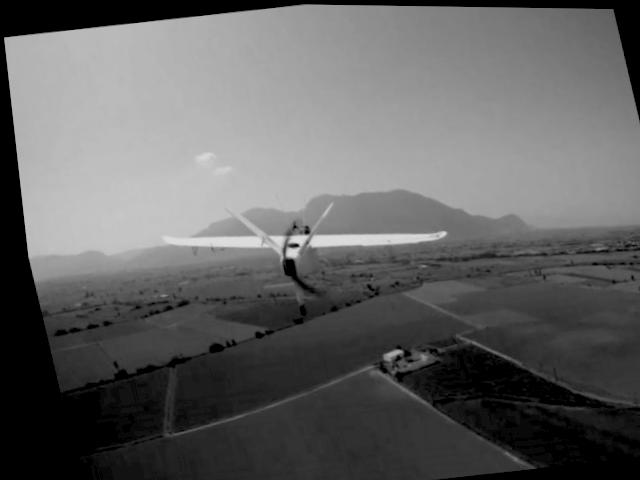hedef: (143, 173, 453, 313)
